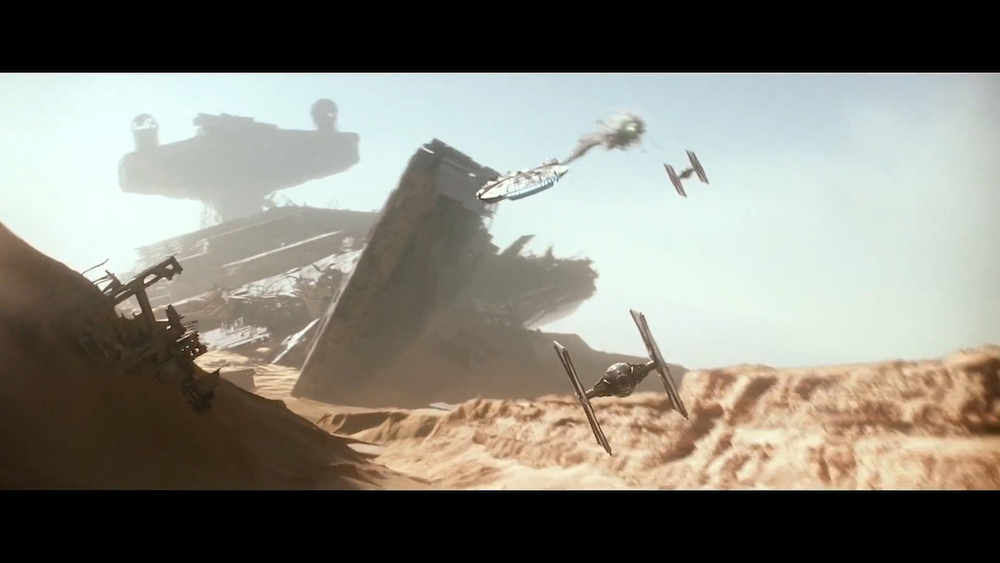Millennium Falcon: (476, 157, 570, 205)
Tie Fighter: (553, 309, 690, 457), (663, 151, 710, 199)
